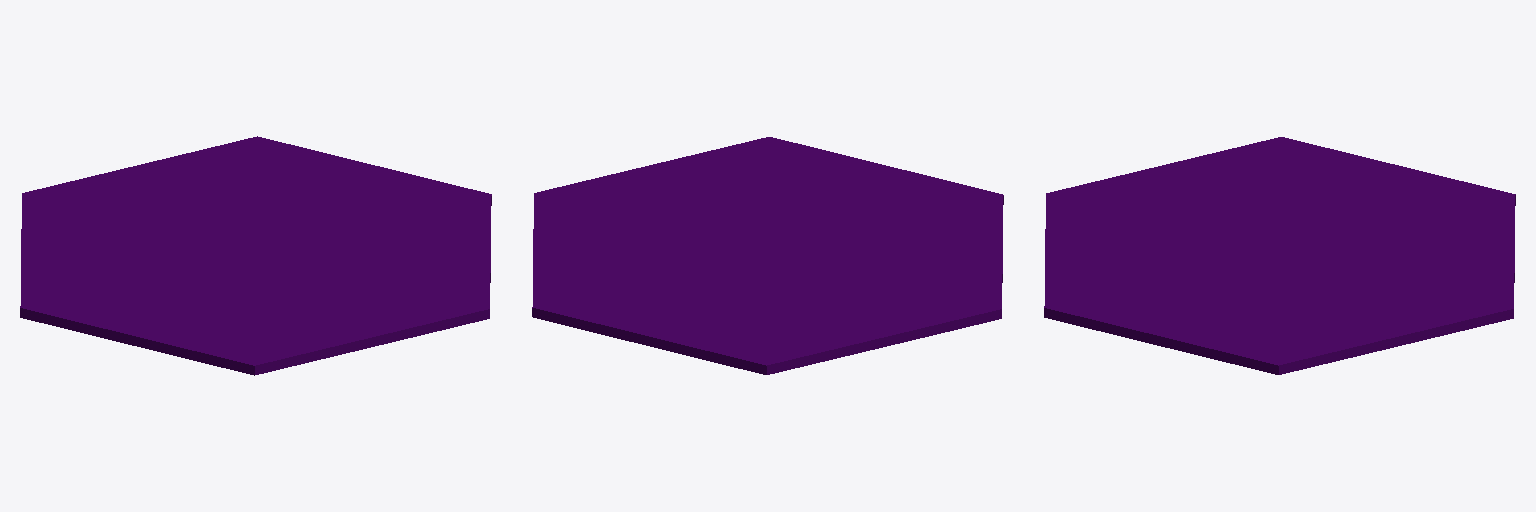
robot.urdf — Hexagon_purple:
<?xml version="1.0"?>
<!-- created with Phobos 1.0.1 "Capricious Choutengan" -->
  <robot name="Hexagon_purple">
  
    <material name="purple">
      <color rgba="0.333 0.047 0.435 1"/>
    </material>

    <link name="Untitled">
      <inertial>
        <origin xyz="0 0 0" rpy="0 0 0"/>
        <mass value="0.001"/>
        <inertia ixx="0.001" ixy="0" ixz="0" iyy="0.001" iyz="0" izz="0.001"/>
      </inertial>
      <visual name="Miniaturebase 20151107-25899-Phehsx-0">
        <origin xyz="0 0 0" rpy="0 1.57 0.72"/>
        <geometry>
          <mesh filename="hexagon.stl" scale="0.3 1 1"/>
        </geometry>
        <material name="purple"/>
      </visual>
    </link>
    
  </robot>

--- Facts derived from the render (not from the file) ---
3 views of the same robot in one strip: view 1: azimuth 30°, elevation 25°; view 2: azimuth 150°, elevation 25°; view 3: azimuth 270°, elevation 25° (orthographic).
Robot: Hexagon_purple — 1 links, 0 joints (none); root link Untitled; default pose: all joints at 0.
Links seen in each view (by area): view 1: Untitled; view 2: Untitled; view 3: Untitled.
Link boxes in pixels (x1=…): Untitled: x1=20, y1=136, x2=491, y2=375; Untitled: x1=532, y1=137, x2=1003, y2=374; Untitled: x1=1044, y1=137, x2=1515, y2=374.
Bounding box of the posed robot: 45 × 39.09 × 0.934 m (x, y, z).
1 mesh visuals loaded from 1 distinct referenced files (1 binary STL).